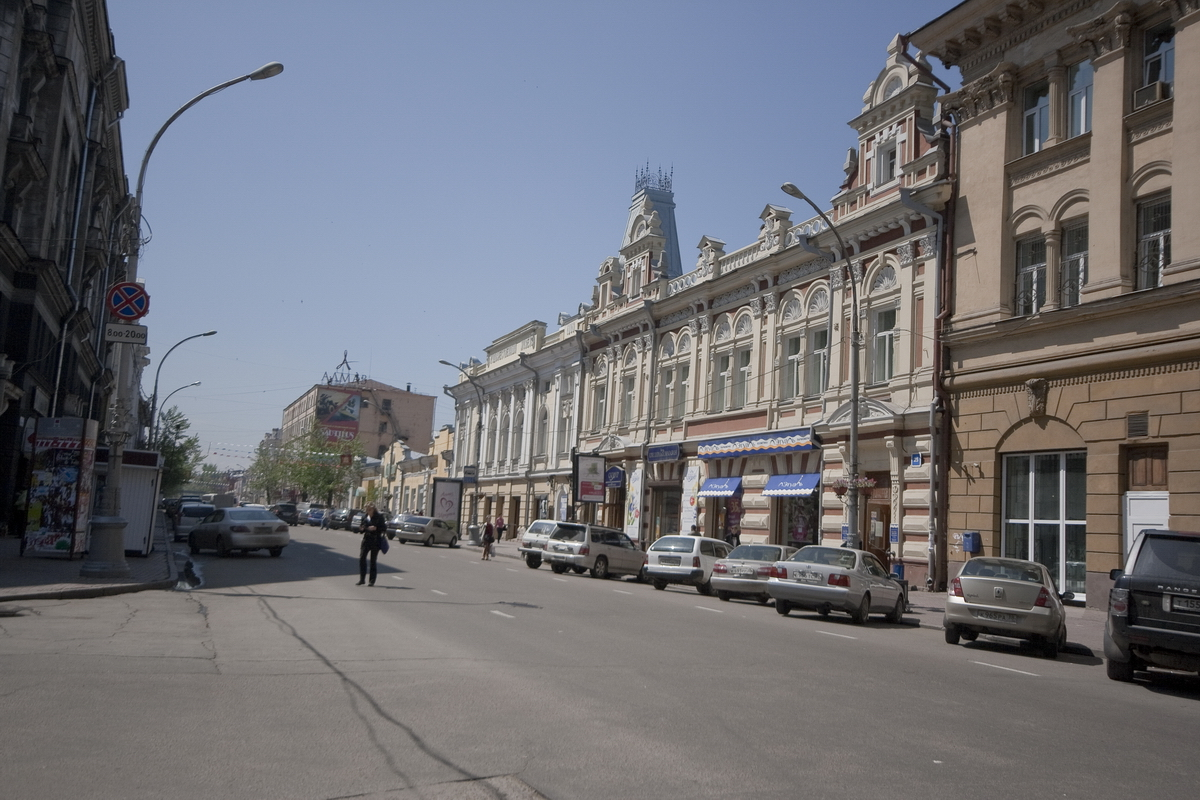sign: (105, 279, 152, 322), (462, 464, 480, 485)
